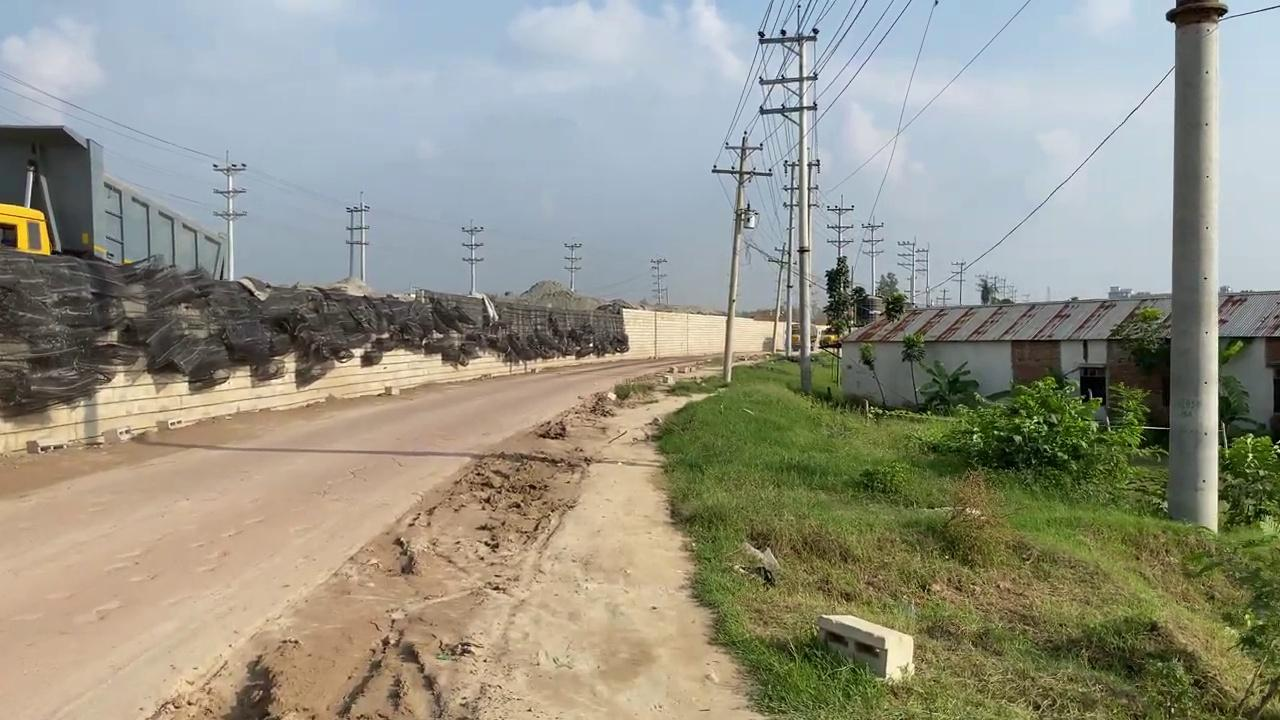Obstacle: (815, 612, 914, 681)
Pole: (1164, 1, 1227, 534), (711, 131, 772, 383)
Rickshaw: (294, 350, 763, 720)
Traffic-sign: (821, 254, 854, 335)
Tree: (0, 123, 230, 280), (0, 202, 116, 264), (0, 202, 53, 256)
Upstairs: (0, 243, 630, 415)
